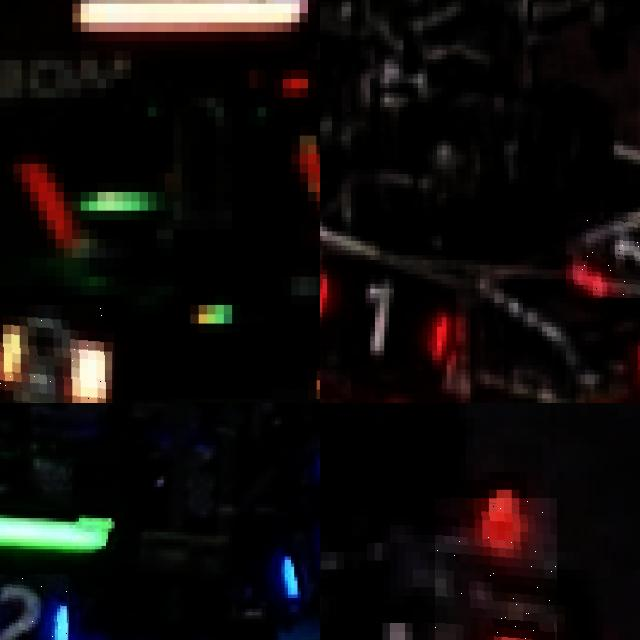B2: (0, 573, 69, 640)
R1: (320, 264, 451, 360), (566, 212, 640, 298)
R5: (435, 498, 557, 640)
Rs: (0, 305, 114, 403)
